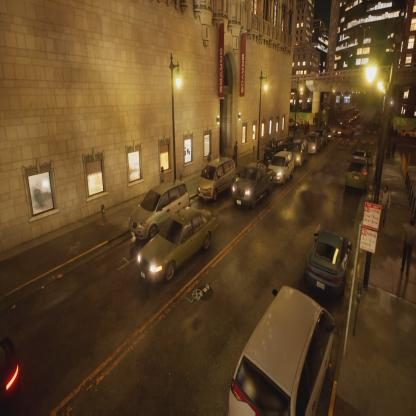License-Plate: (314, 268, 330, 296), (234, 191, 244, 210), (353, 173, 361, 184), (140, 270, 146, 282)
